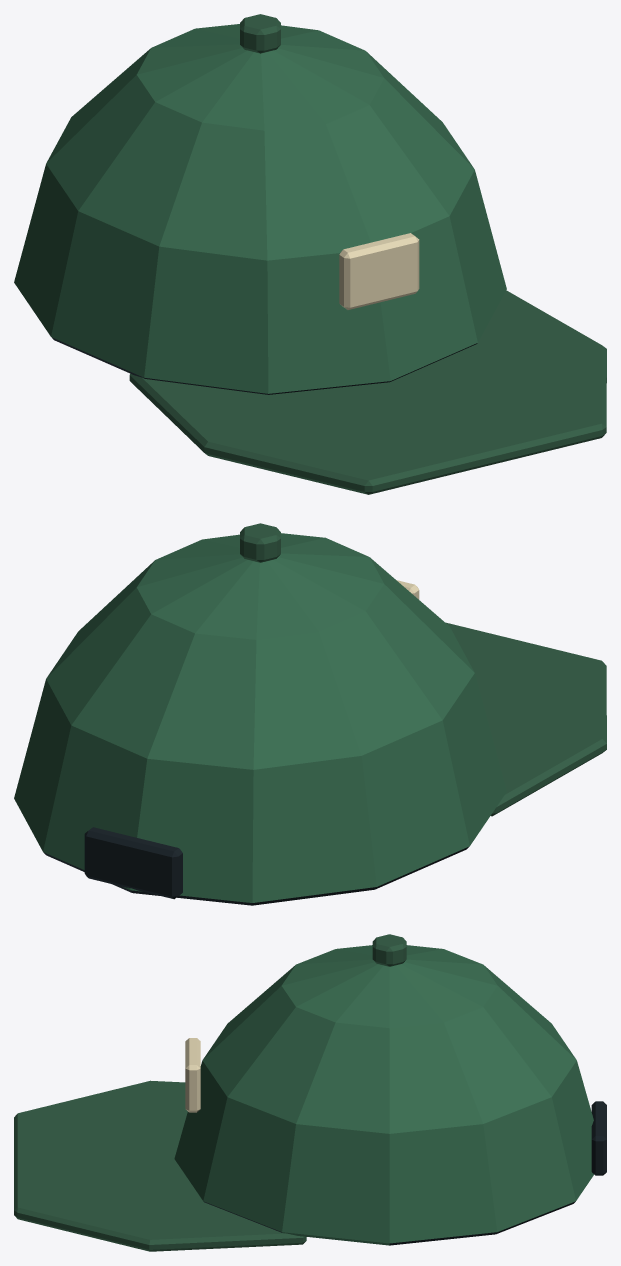
The model's file is b17_baseball_cap.glb.
3 views of the same model, one above another, from view 1: azimuth 30°, elevation 25°; view 2: azimuth 150°, elevation 25°; view 3: azimuth 270°, elevation 25° (orthographic). The views are drawn at different scales.
Parts seen in each view (by area): view 1: b17_baseball_cap; view 2: b17_baseball_cap; view 3: b17_baseball_cap.
Boxes of the visible parts, x1,y1,x2,y2 form: b17_baseball_cap: (14, 14, 606, 494); b17_baseball_cap: (14, 523, 606, 905); b17_baseball_cap: (14, 934, 606, 1251).
Bounding box in the file's own units: 0.1832 × 0.117 × 0.2715.
